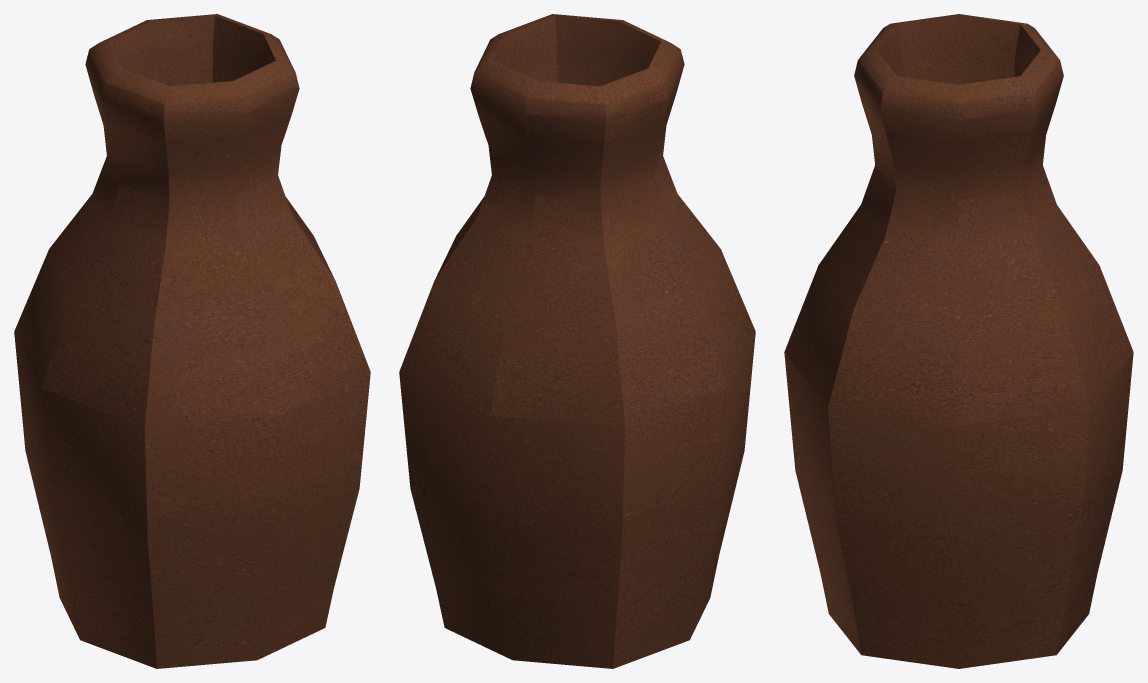
File: Vase.fbx
3 views of the same model, side by side, from view 1: azimuth 30°, elevation 25°; view 2: azimuth 150°, elevation 25°; view 3: azimuth 270°, elevation 25° (orthographic).
Parts seen in each view (by area): view 1: Vase; view 2: Vase; view 3: Vase.
Boxes of the visible parts, left/top/right/bottom form: Vase: left=14, top=14, right=370, bottom=668; Vase: left=399, top=14, right=755, bottom=668; Vase: left=784, top=14, right=1133, bottom=668.
Bounding box in the file's own units: 134 × 243 × 134.
